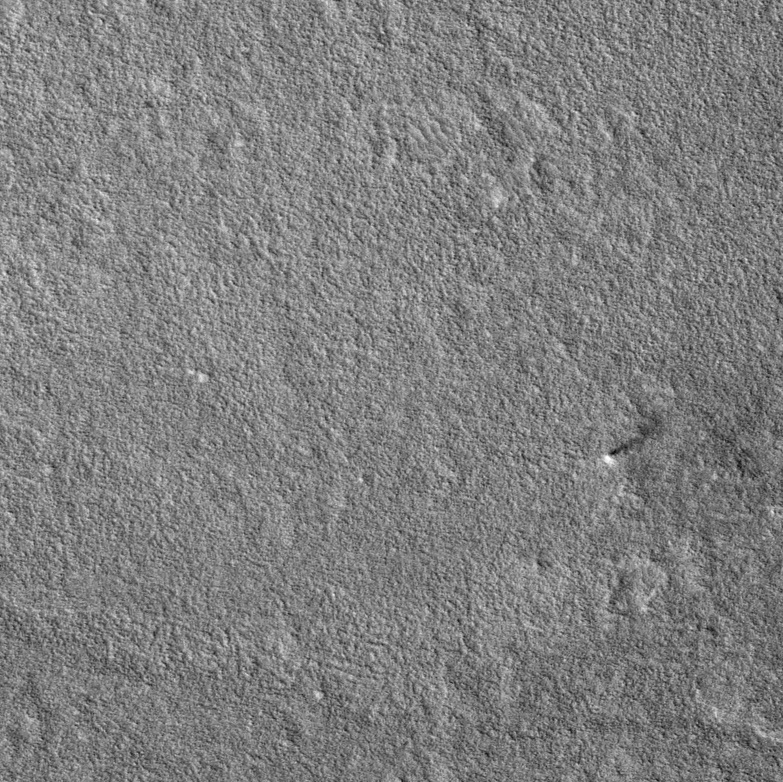dust_devil: (601, 417, 666, 465)
